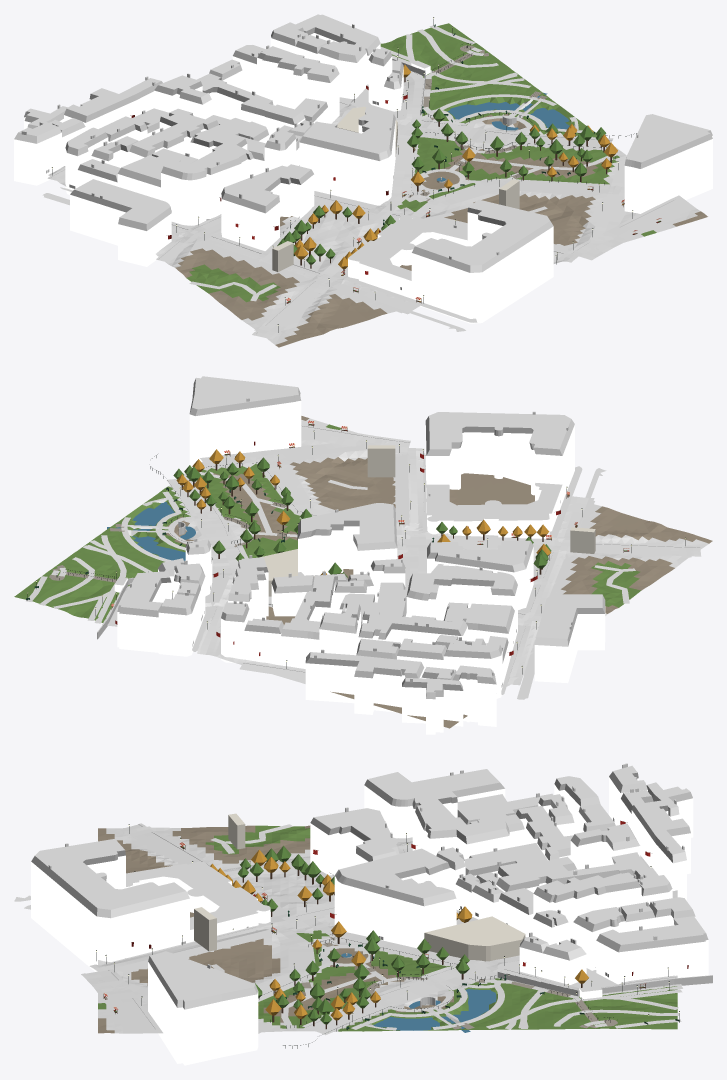
Rendered from zone_H4.glb.
The picture shows the model from 3 angles, top to bottom: view 1: azimuth 30°, elevation 25°; view 2: azimuth 150°, elevation 25°; view 3: azimuth 270°, elevation 25°; orthographic projection. The views are drawn at different scales.
Visible parts, largest first — view 1: zone_H4_batiments, zone_H4_terrain, zone_H4_sol_NOCOL, zone_H4_decor_NOCOL, zone_H4_eau; view 2: zone_H4_batiments, zone_H4_terrain, zone_H4_sol_NOCOL, zone_H4_decor_NOCOL, zone_H4_eau, zone_H4_commune_NOCOL; view 3: zone_H4_batiments, zone_H4_terrain, zone_H4_sol_NOCOL, zone_H4_decor_NOCOL, zone_H4_eau.
Boxes of the visible parts, x1=… form: zone_H4_batiments: x1=14, y1=14, x2=712, y2=323; zone_H4_terrain: x1=48, y1=23, x2=707, y2=347; zone_H4_sol_NOCOL: x1=42, y1=25, x2=693, y2=339; zone_H4_decor_NOCOL: x1=52, y1=17, x2=636, y2=332; zone_H4_eau: x1=447, y1=92, x2=569, y2=130; zone_H4_batiments: x1=97, y1=376, x2=605, y2=734; zone_H4_terrain: x1=14, y1=416, x2=712, y2=728; zone_H4_sol_NOCOL: x1=26, y1=424, x2=701, y2=699; zone_H4_decor_NOCOL: x1=26, y1=430, x2=685, y2=674; zone_H4_eau: x1=107, y1=502, x2=195, y2=560; zone_H4_commune_NOCOL: x1=111, y1=420, x2=629, y2=687; zone_H4_batiments: x1=31, y1=763, x2=712, y2=1065; zone_H4_terrain: x1=98, y1=825, x2=677, y2=1033; zone_H4_sol_NOCOL: x1=14, y1=823, x2=682, y2=1035; zone_H4_decor_NOCOL: x1=96, y1=824, x2=679, y2=1048; zone_H4_eau: x1=373, y1=989, x2=496, y2=1032.
Bounding box in the file's own units: 237 × 35.96 × 253.
